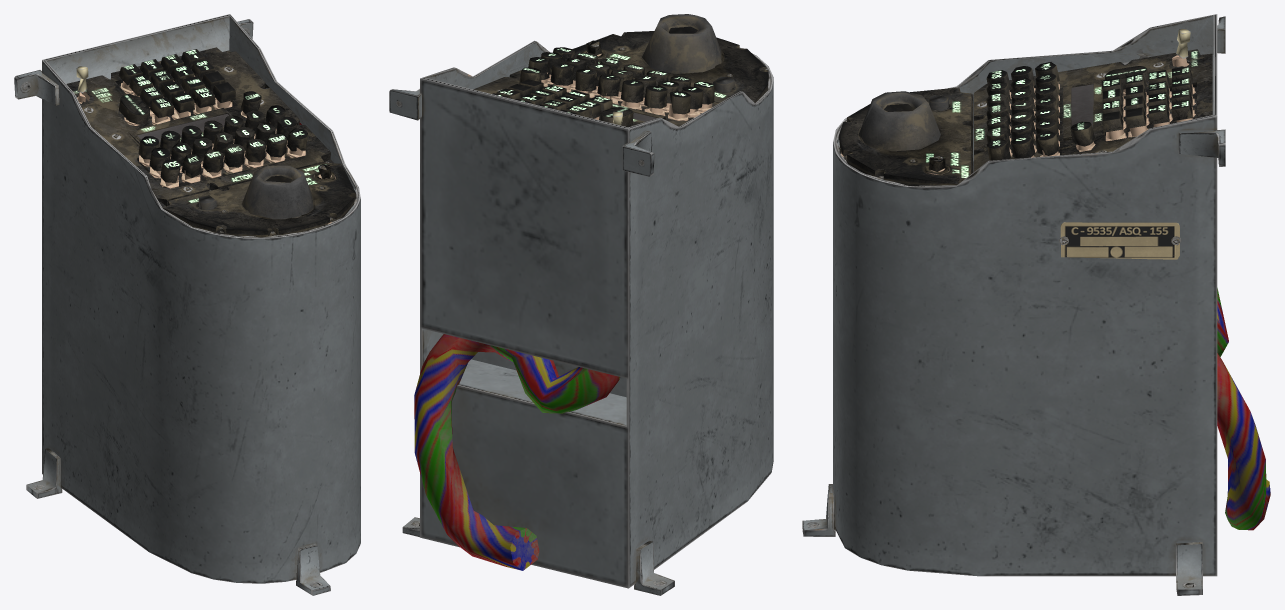
Rendered from ip_asq2.glb.
3 views of the same model, side by side, from view 1: azimuth 30°, elevation 25°; view 2: azimuth 150°, elevation 25°; view 3: azimuth 270°, elevation 25° (orthographic). The views are drawn at different scales.
Parts seen in each view (by area): view 1: O_ip_asq2__Body; view 2: O_ip_asq2__Body; view 3: O_ip_asq2__Body.
Boxes of the visible parts, <box> form: O_ip_asq2__Body: <box>14,14,360,595</box>; O_ip_asq2__Body: <box>389,14,773,595</box>; O_ip_asq2__Body: <box>802,14,1270,595</box>.
Bounding box in the file's own units: 0.741 × 1.26 × 1.14.
1 material, 1 textured.
